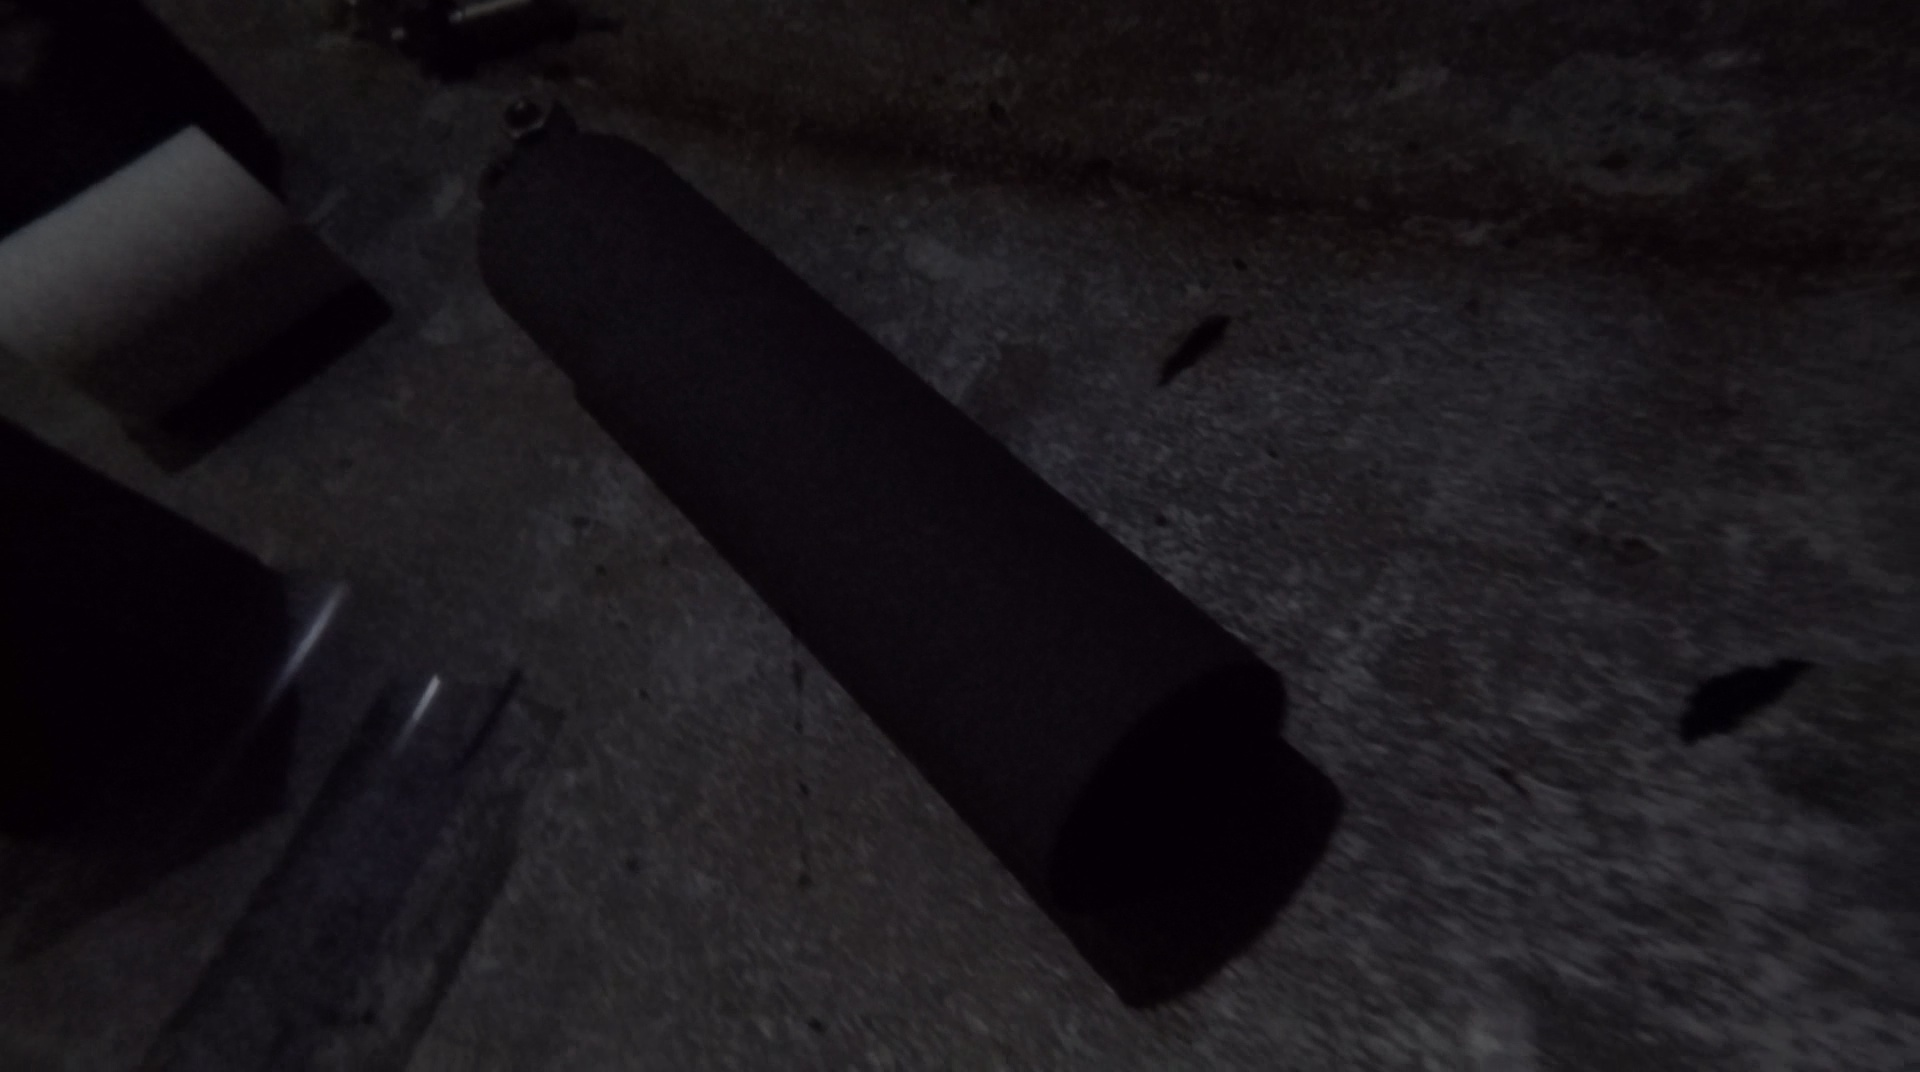bolt: (392, 1, 556, 57)
led_block: (1, 411, 285, 847), (1, 1, 303, 235)
nut: (498, 94, 566, 142), (477, 157, 509, 196)
pipe: (477, 129, 1290, 926), (1, 570, 545, 1069), (1, 123, 361, 426)
